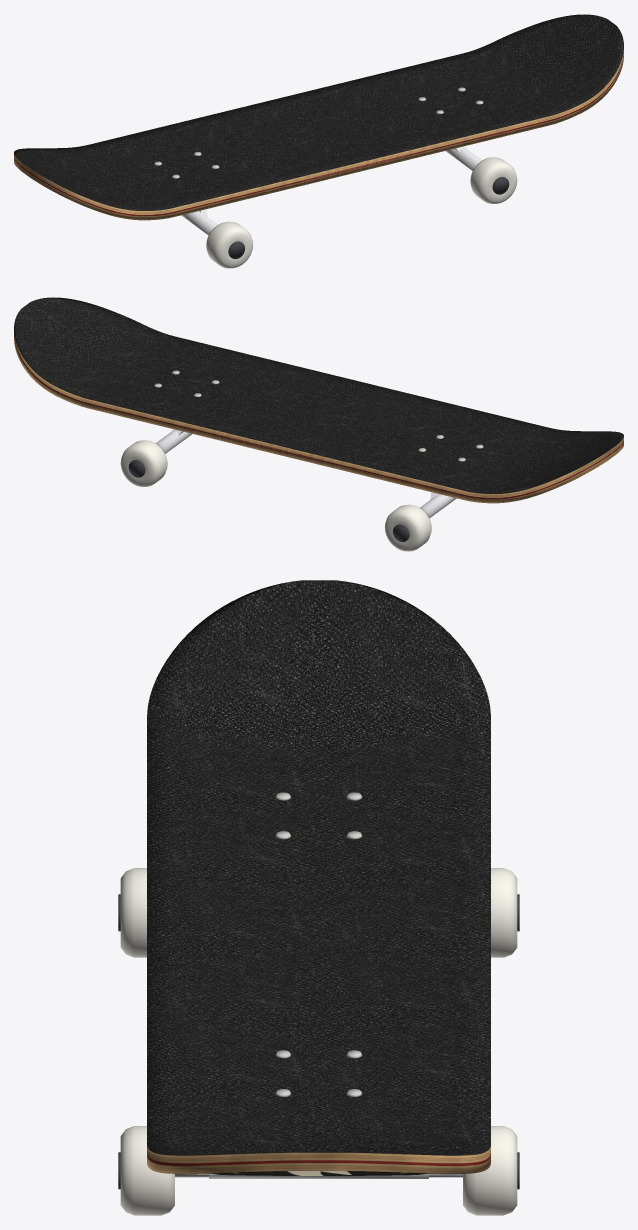
The model's file is board.glb.
3 views of the same model, one above another, from view 1: azimuth 30°, elevation 25°; view 2: azimuth 150°, elevation 25°; view 3: azimuth 270°, elevation 25° (orthographic). The views are drawn at different scales.
Visible parts, largest first — view 1: Deck, Wheel_FR, Wheel_BR, Truck_B, Truck_F; view 2: Deck, Wheel_FL, Wheel_BL, Truck_B, Truck_F; view 3: Deck, Wheel_FL, Wheel_FR, Wheel_BL, Wheel_BR, Truck_F, Bolts.
Boxes of the visible parts, box(x1,y1,x2,y2) form: Deck: box(14, 14, 623, 220); Wheel_FR: box(470, 157, 517, 203); Wheel_BR: box(206, 221, 253, 268); Truck_B: box(181, 209, 217, 235); Truck_F: box(446, 146, 482, 170); Deck: box(14, 297, 623, 503); Wheel_FL: box(120, 440, 167, 486); Wheel_BL: box(384, 504, 431, 551); Truck_B: box(420, 492, 456, 518); Truck_F: box(155, 429, 191, 453); Deck: box(147, 580, 490, 1175); Wheel_FL: box(463, 1126, 517, 1215); Wheel_FR: box(120, 1126, 174, 1215); Wheel_BL: box(491, 868, 517, 957); Wheel_BR: box(120, 868, 146, 957); Truck_F: box(175, 1174, 462, 1178); Bolts: box(275, 792, 362, 1096).
Size of the model in its own units: 0.799 by 0.1407 by 0.237.
Materials: 9 (3 with a texture image).
